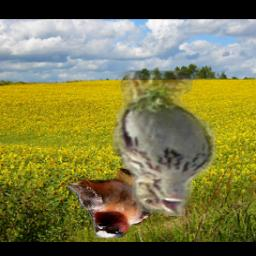Sparrow: (112, 71, 215, 217)
Swallow: (67, 168, 152, 238)
